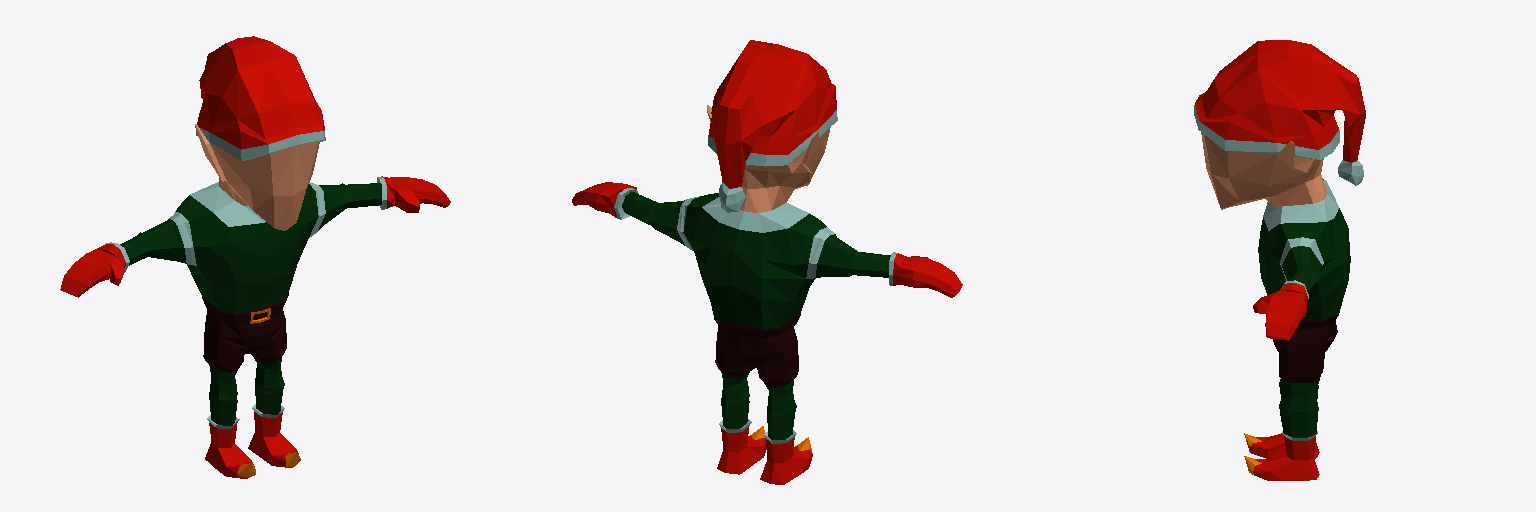
The model's file is char_ELF_6.obj.
The picture shows the model from 3 angles: view 1: azimuth 30°, elevation 25°; view 2: azimuth 150°, elevation 25°; view 3: azimuth 270°, elevation 25°; orthographic projection.
Visible parts, largest first — view 1: Cube; view 2: Cube; view 3: Cube.
Part boxes in pixels (left/top/right/bottom): Cube: left=60, top=36, right=450, bottom=478; Cube: left=572, top=40, right=962, bottom=484; Cube: left=1194, top=40, right=1365, bottom=480.
Size of the model in its own units: 2.88 by 2.96 by 1.11.